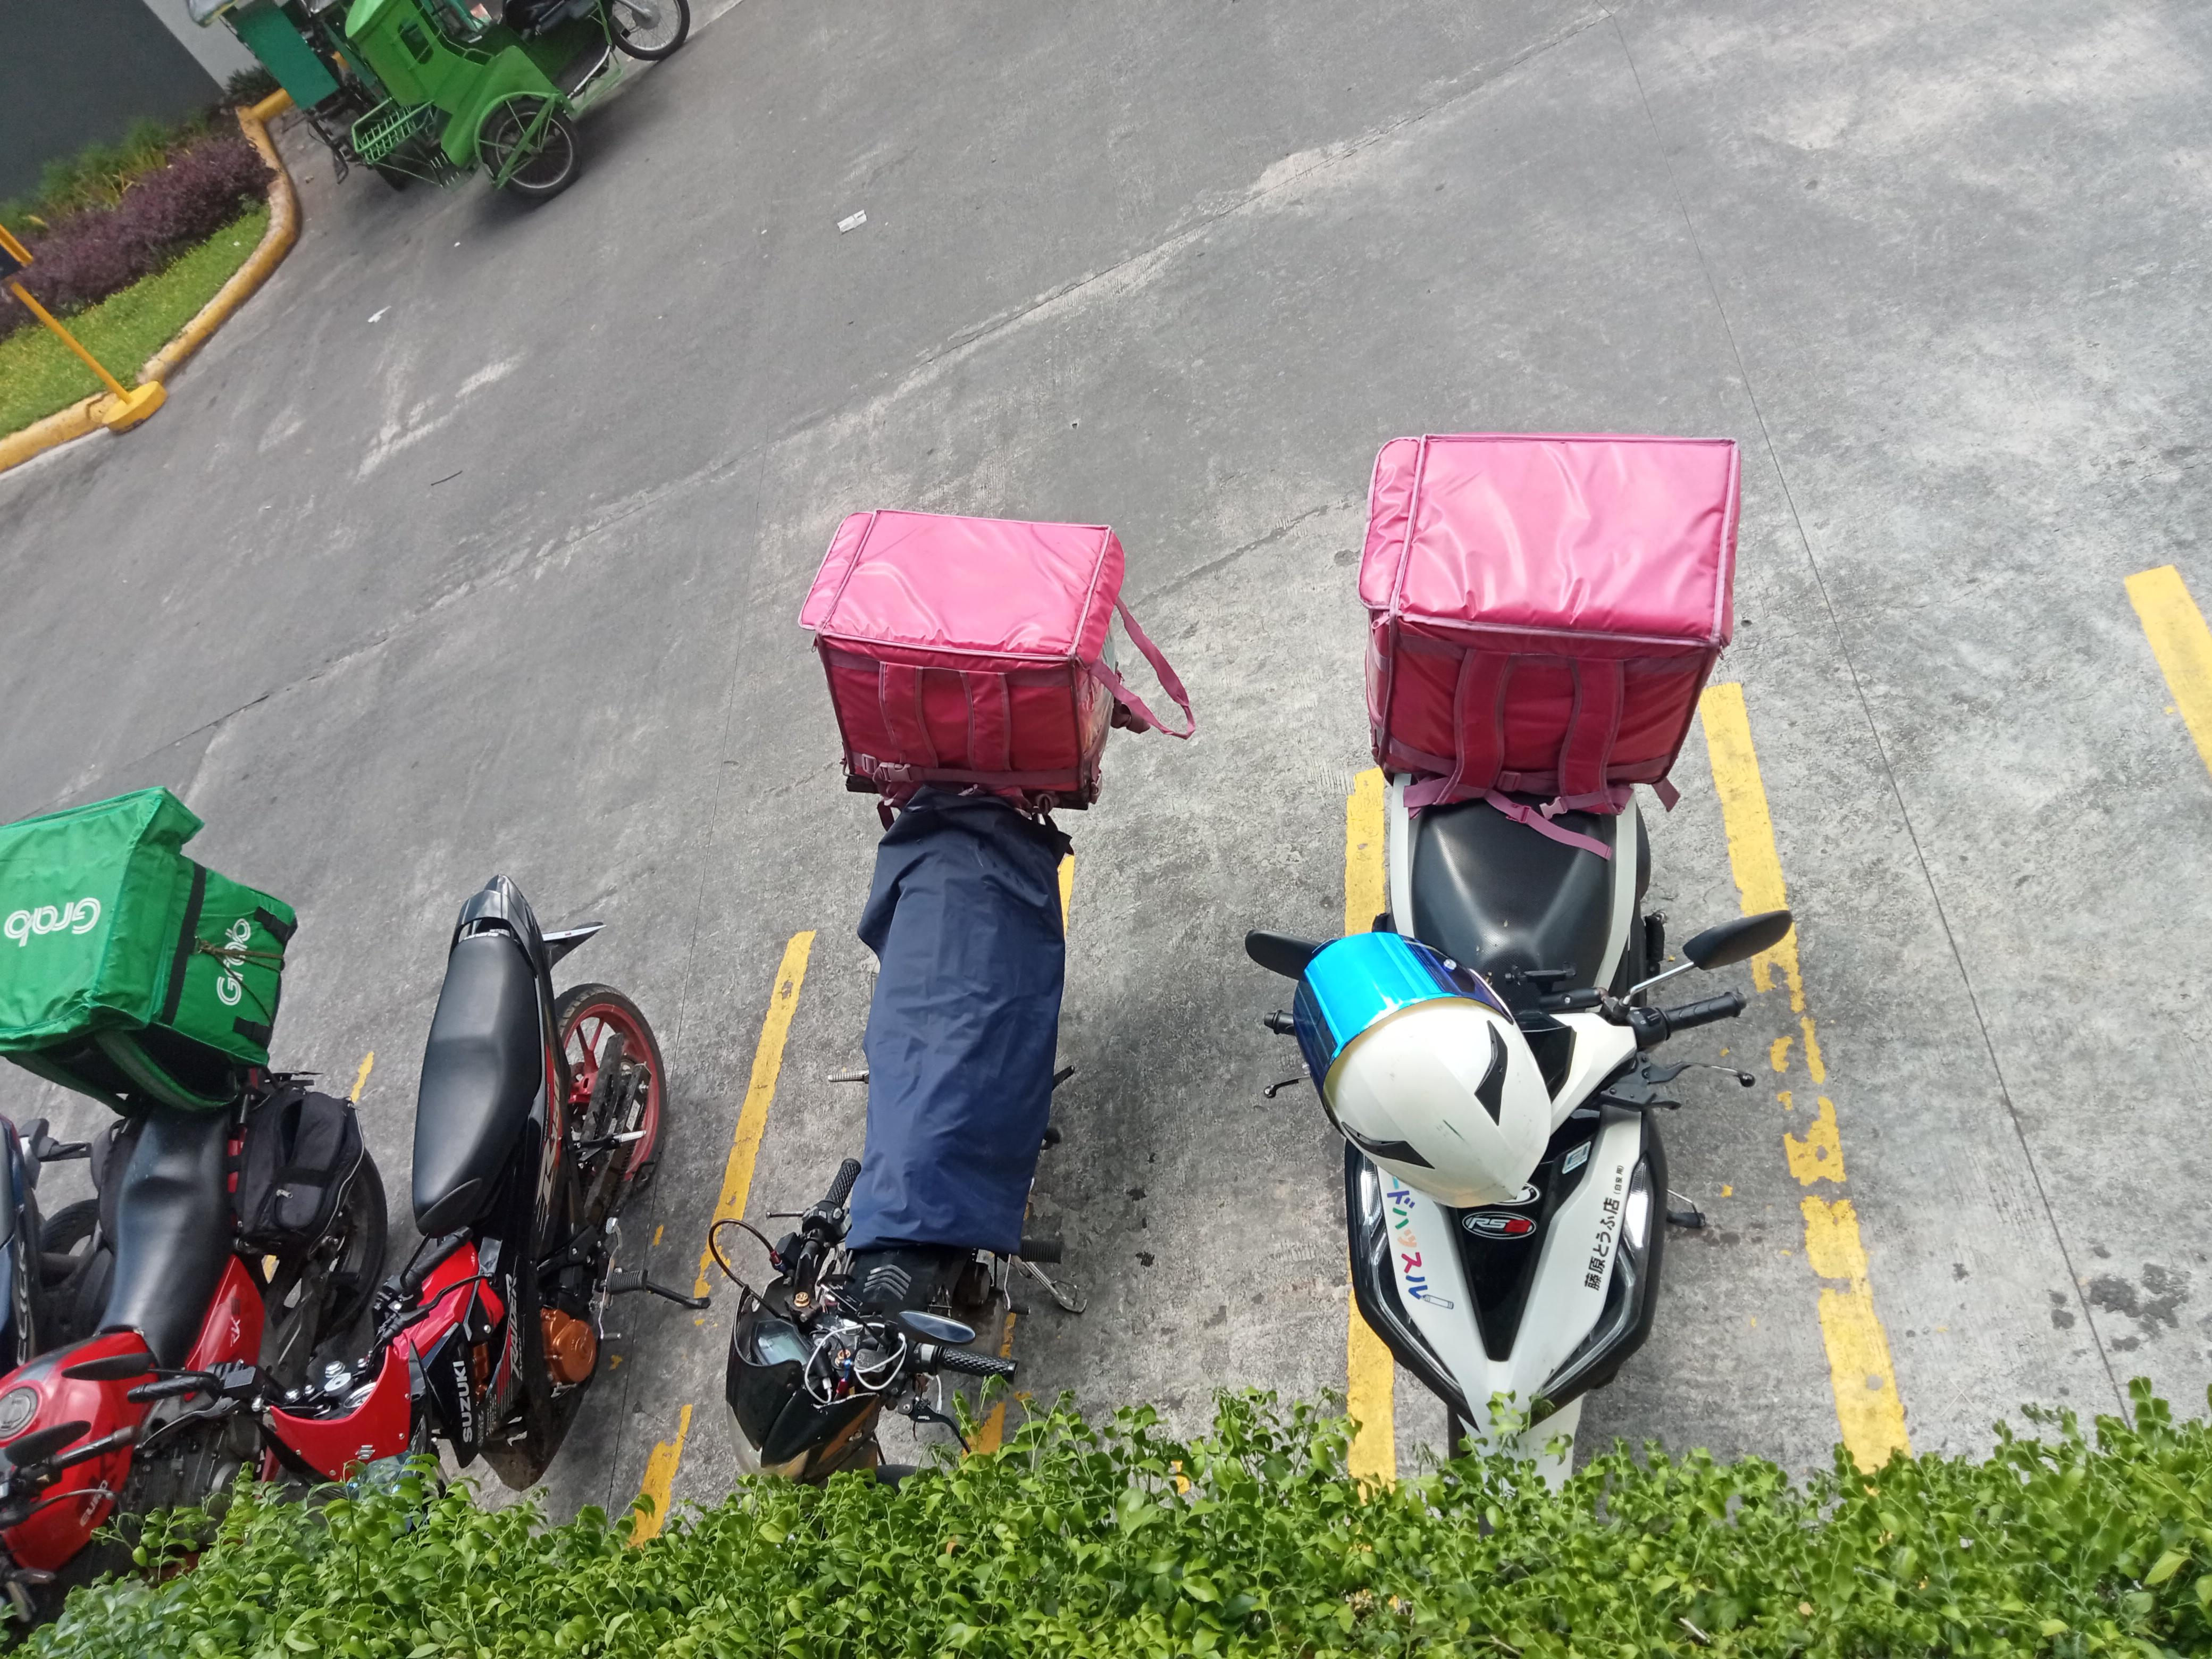occupied: (1343, 694, 1921, 1513), (632, 856, 1082, 1548)
vacant: (1697, 558, 2207, 1479), (969, 773, 1401, 1500)
